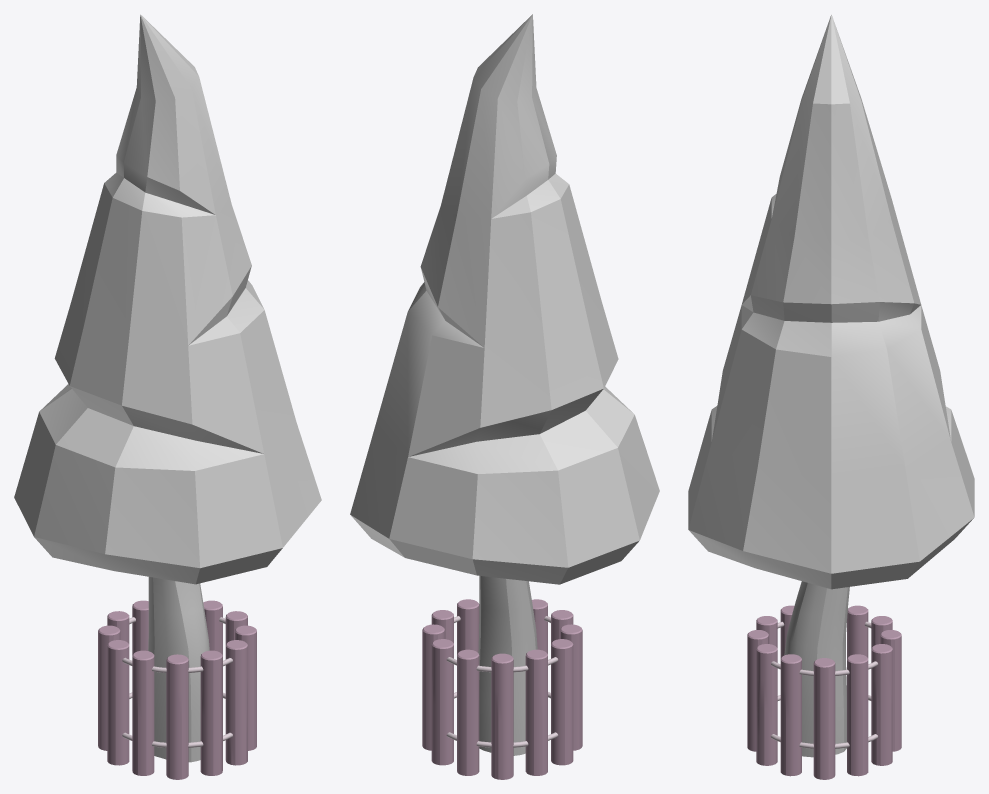
3 views of the same model, side by side, from view 1: azimuth 30°, elevation 25°; view 2: azimuth 150°, elevation 25°; view 3: azimuth 270°, elevation 25° (orthographic). The views are drawn at different scales.
Parts seen in each view (by area): view 1: 树叶, 克隆, 树干; view 2: 树叶, 克隆, 树干; view 3: 树叶, 克隆, 树干.
Boxes of the visible parts, x1,y1,x2,y2 form: 树叶: (14,14,321,584); 克隆: (98,600,256,779); 树干: (148,577,209,762); 树叶: (350,14,659,584); 克隆: (422,599,582,779); 树干: (478,576,537,755); 树叶: (688,14,974,589); 克隆: (747,605,901,779); 树干: (784,581,849,757).
Size of the model in its own units: 0.5886 by 1.55 by 0.5598.
